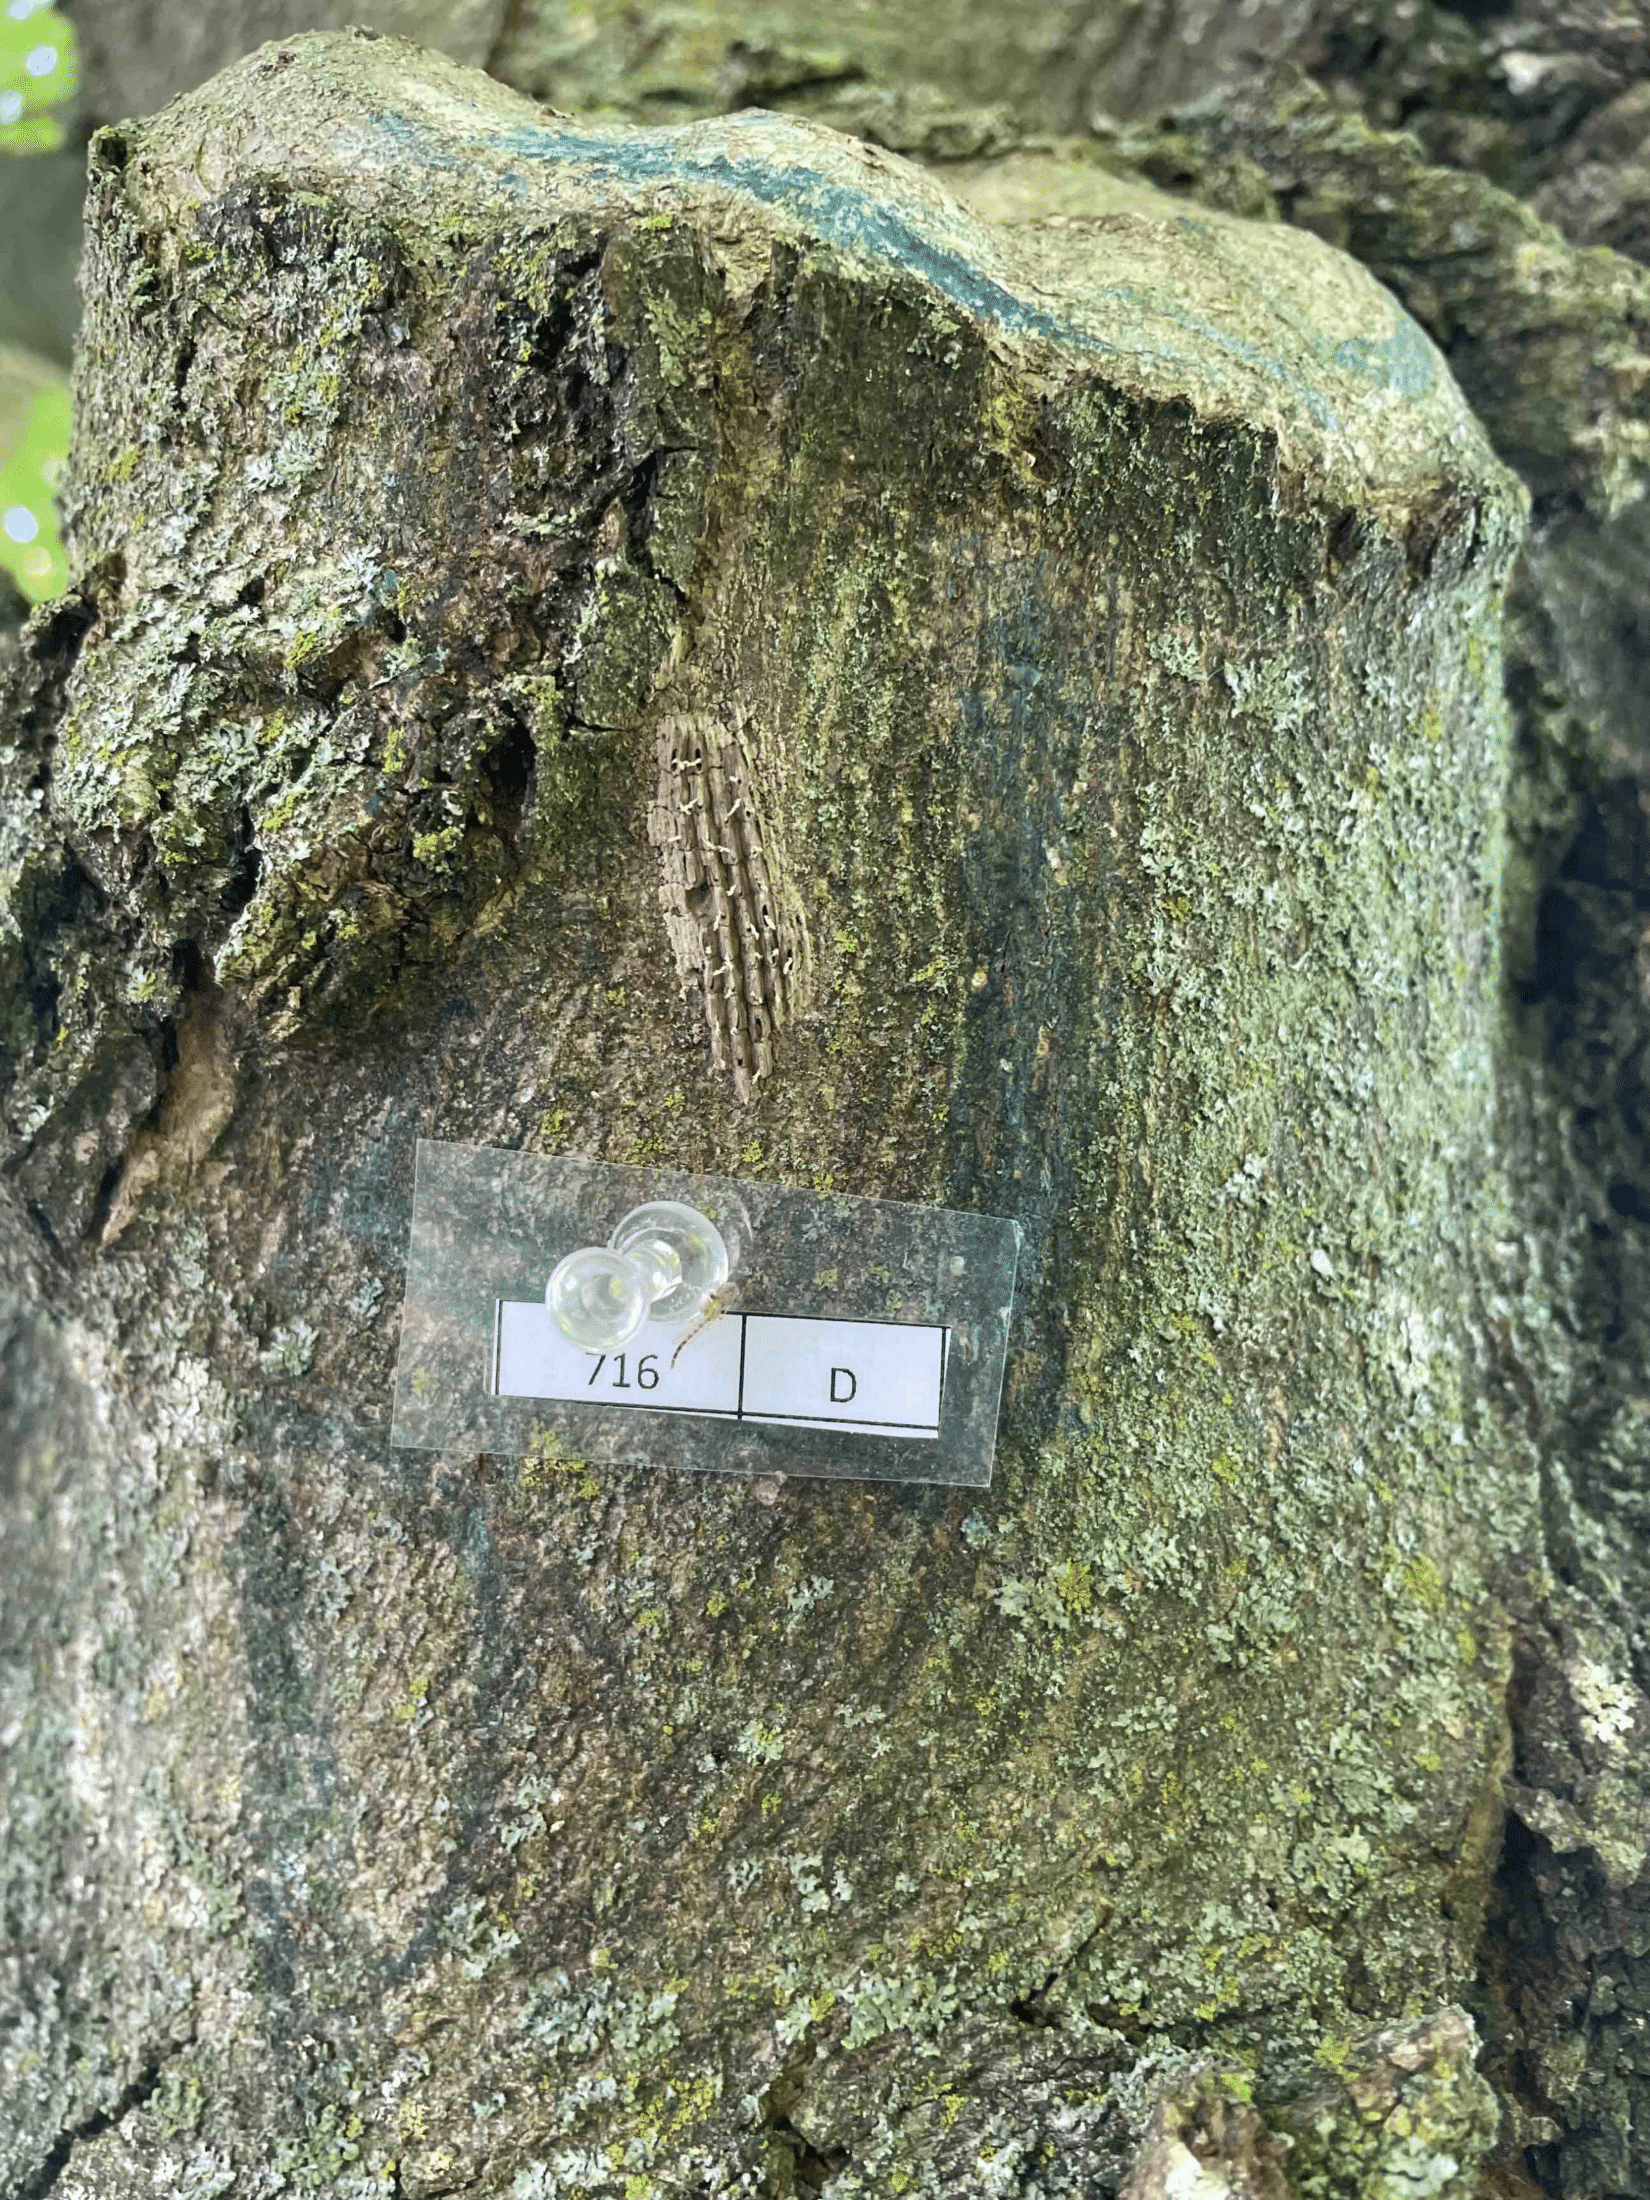egg masses: (581, 634, 849, 1121)
